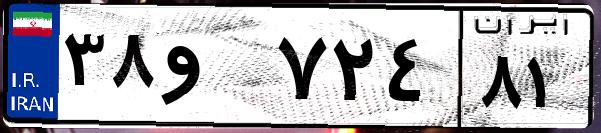1: (525, 38, 570, 115)
2: (330, 28, 385, 110)
3: (57, 26, 110, 100)
4: (385, 28, 445, 110)
7: (270, 28, 330, 110)
8: (475, 38, 525, 113), (110, 28, 158, 98)
و: (158, 20, 270, 120)
